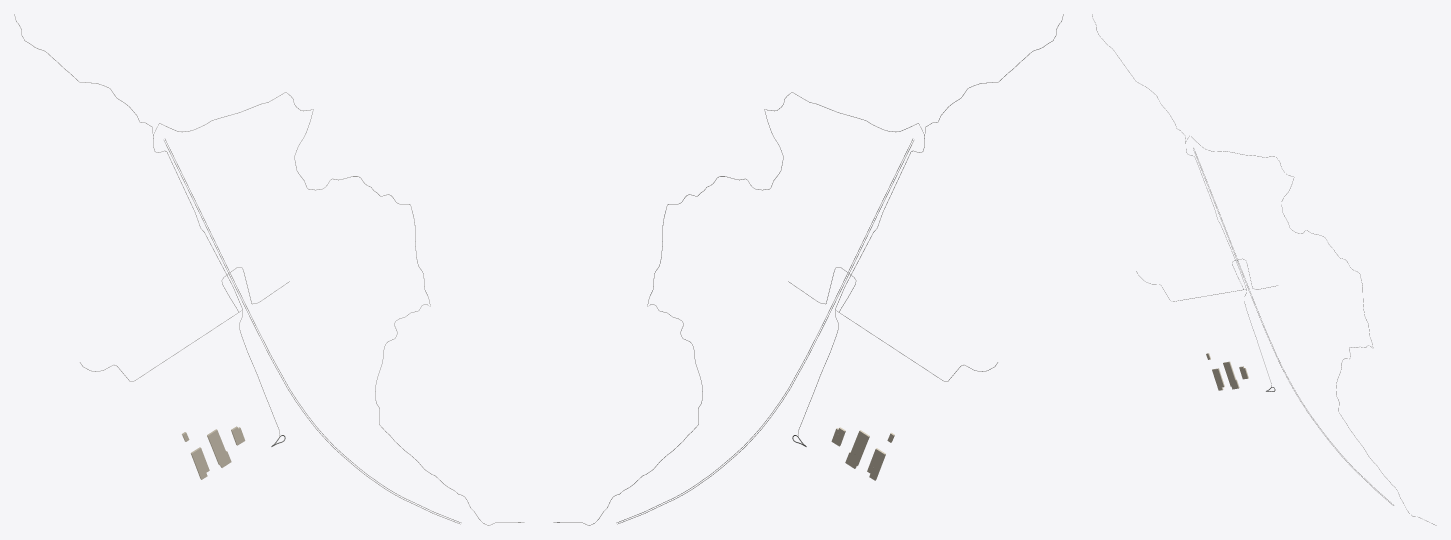
File: historic-palestine-04_19_3461_3133.glb
3 views of the same model, side by side, from view 1: azimuth 30°, elevation 25°; view 2: azimuth 150°, elevation 25°; view 3: azimuth 330°, elevation 25° (orthographic). The views are drawn at different scales.
Parts seen in each view (by area): view 1: Road .005; view 2: Road .005; view 3: Road .005.
Part boxes in pixels (bbox=[...]): Road .005: bbox=[14, 14, 524, 525]; Road .005: bbox=[553, 14, 1063, 525]; Road .005: bbox=[1092, 14, 1436, 525].
Bounding box in the file's own units: 1929 × 2287 × 8.7.
